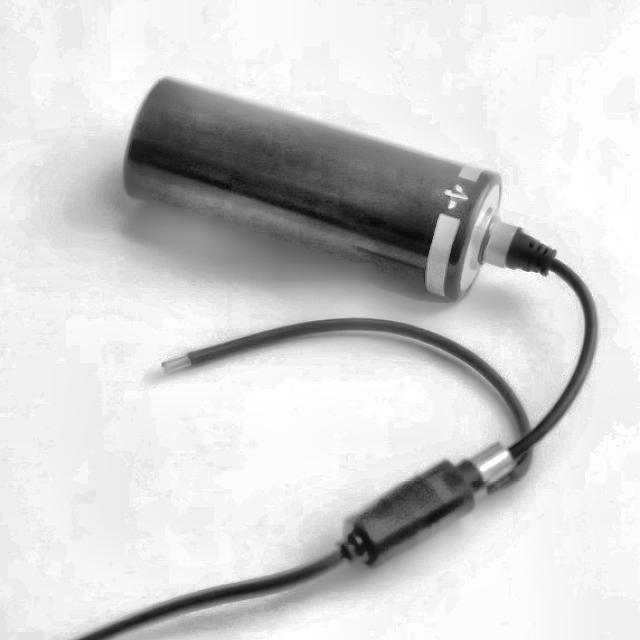Battery: (124, 69, 496, 303)
Cable: (0, 225, 600, 640)
